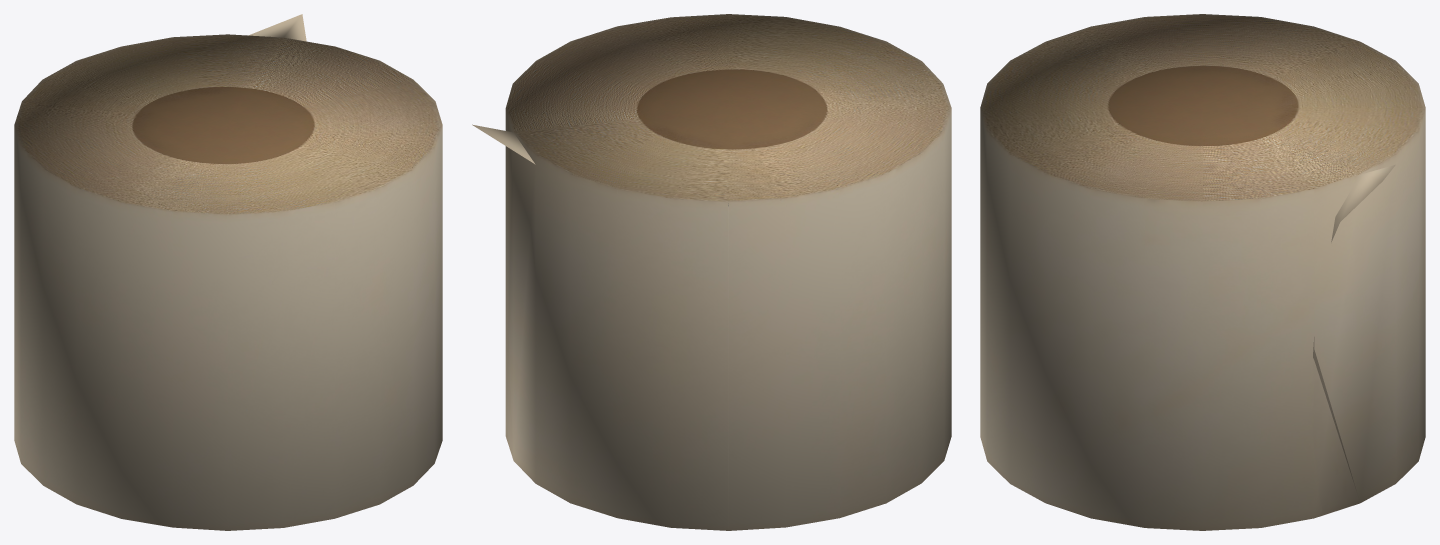
Rendered from tissue-roll.glb.
The picture shows the model from 3 angles, left to right: view 1: azimuth 30°, elevation 25°; view 2: azimuth 150°, elevation 25°; view 3: azimuth 270°, elevation 25°; orthographic projection. The views are drawn at different scales.
Parts seen in each view (by area): view 1: tripo_node_98ab5d8f-7bf1-4f41-b030-eb98e1c5d03e; view 2: tripo_node_98ab5d8f-7bf1-4f41-b030-eb98e1c5d03e; view 3: tripo_node_98ab5d8f-7bf1-4f41-b030-eb98e1c5d03e.
Boxes of the visible parts, bbox=[...] form: tripo_node_98ab5d8f-7bf1-4f41-b030-eb98e1c5d03e: bbox=[14, 14, 442, 530]; tripo_node_98ab5d8f-7bf1-4f41-b030-eb98e1c5d03e: bbox=[472, 14, 951, 530]; tripo_node_98ab5d8f-7bf1-4f41-b030-eb98e1c5d03e: bbox=[980, 14, 1425, 530].
Bounding box in the file's own units: 0.998 × 0.834 × 0.998.
Materials: 1 (1 with a texture image).
